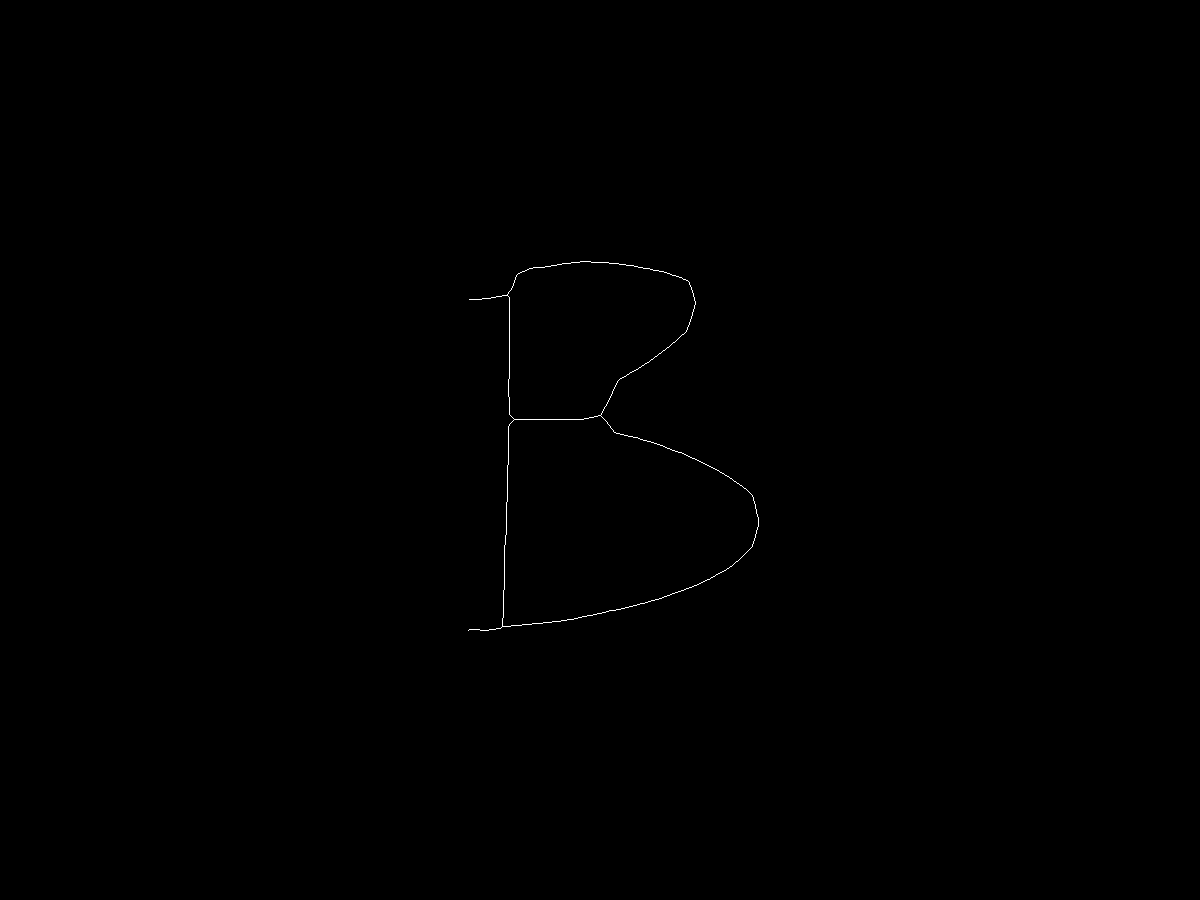dian1: (510, 268, 523, 281)
dian2: (507, 408, 522, 423)
dian3: (495, 620, 508, 633)
dian4: (593, 408, 608, 423)
